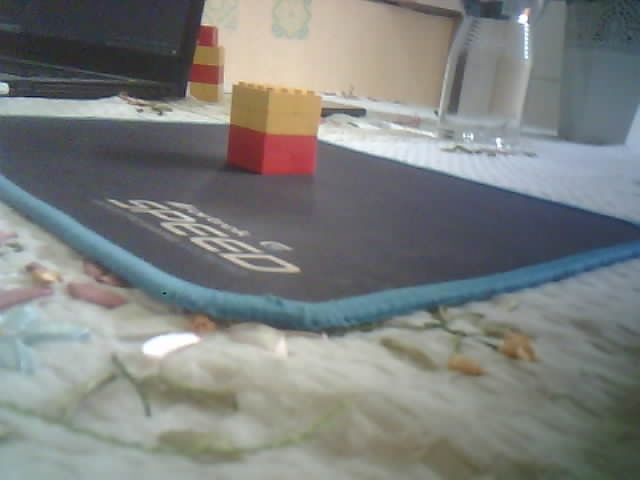lego: (225, 81, 321, 178), (189, 25, 226, 103)
